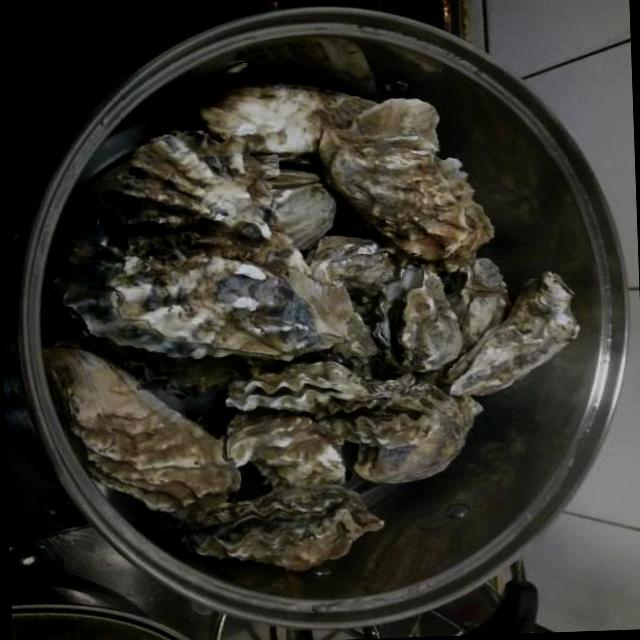Oyster-Closed: (54, 226, 352, 360), (42, 336, 236, 516), (316, 98, 494, 262), (174, 481, 388, 571), (110, 128, 276, 244), (444, 271, 580, 399), (196, 77, 382, 166), (224, 412, 350, 492), (456, 257, 510, 351)
Oyster-Open: (374, 264, 466, 372), (224, 364, 370, 418), (331, 395, 442, 451)
